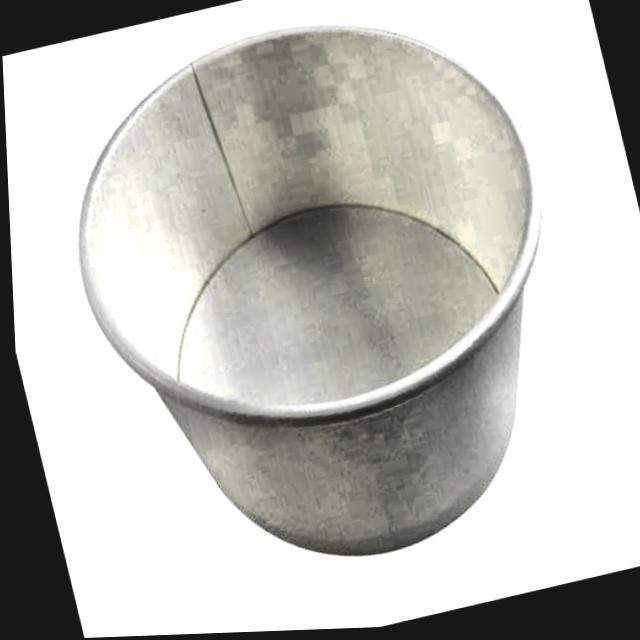Cup: (18, 0, 640, 622)
